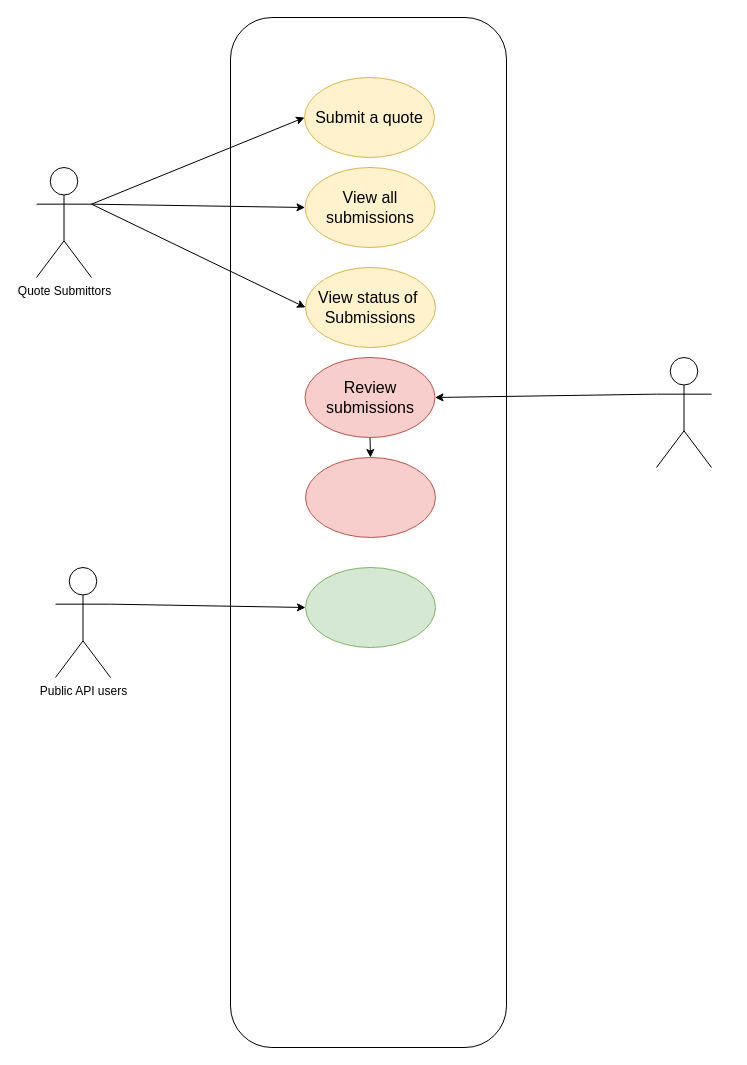
The diagram is 747 pixels wide and 1065 high, and some of its shapes have lost their labels. The box of each missing label's shape, as (x1, y1, x2, y2) in pixels:
Approve or reject: (304, 456, 436, 538)
Query random quote: (304, 566, 436, 648)
Quote Reviewers: (656, 356, 712, 468)
